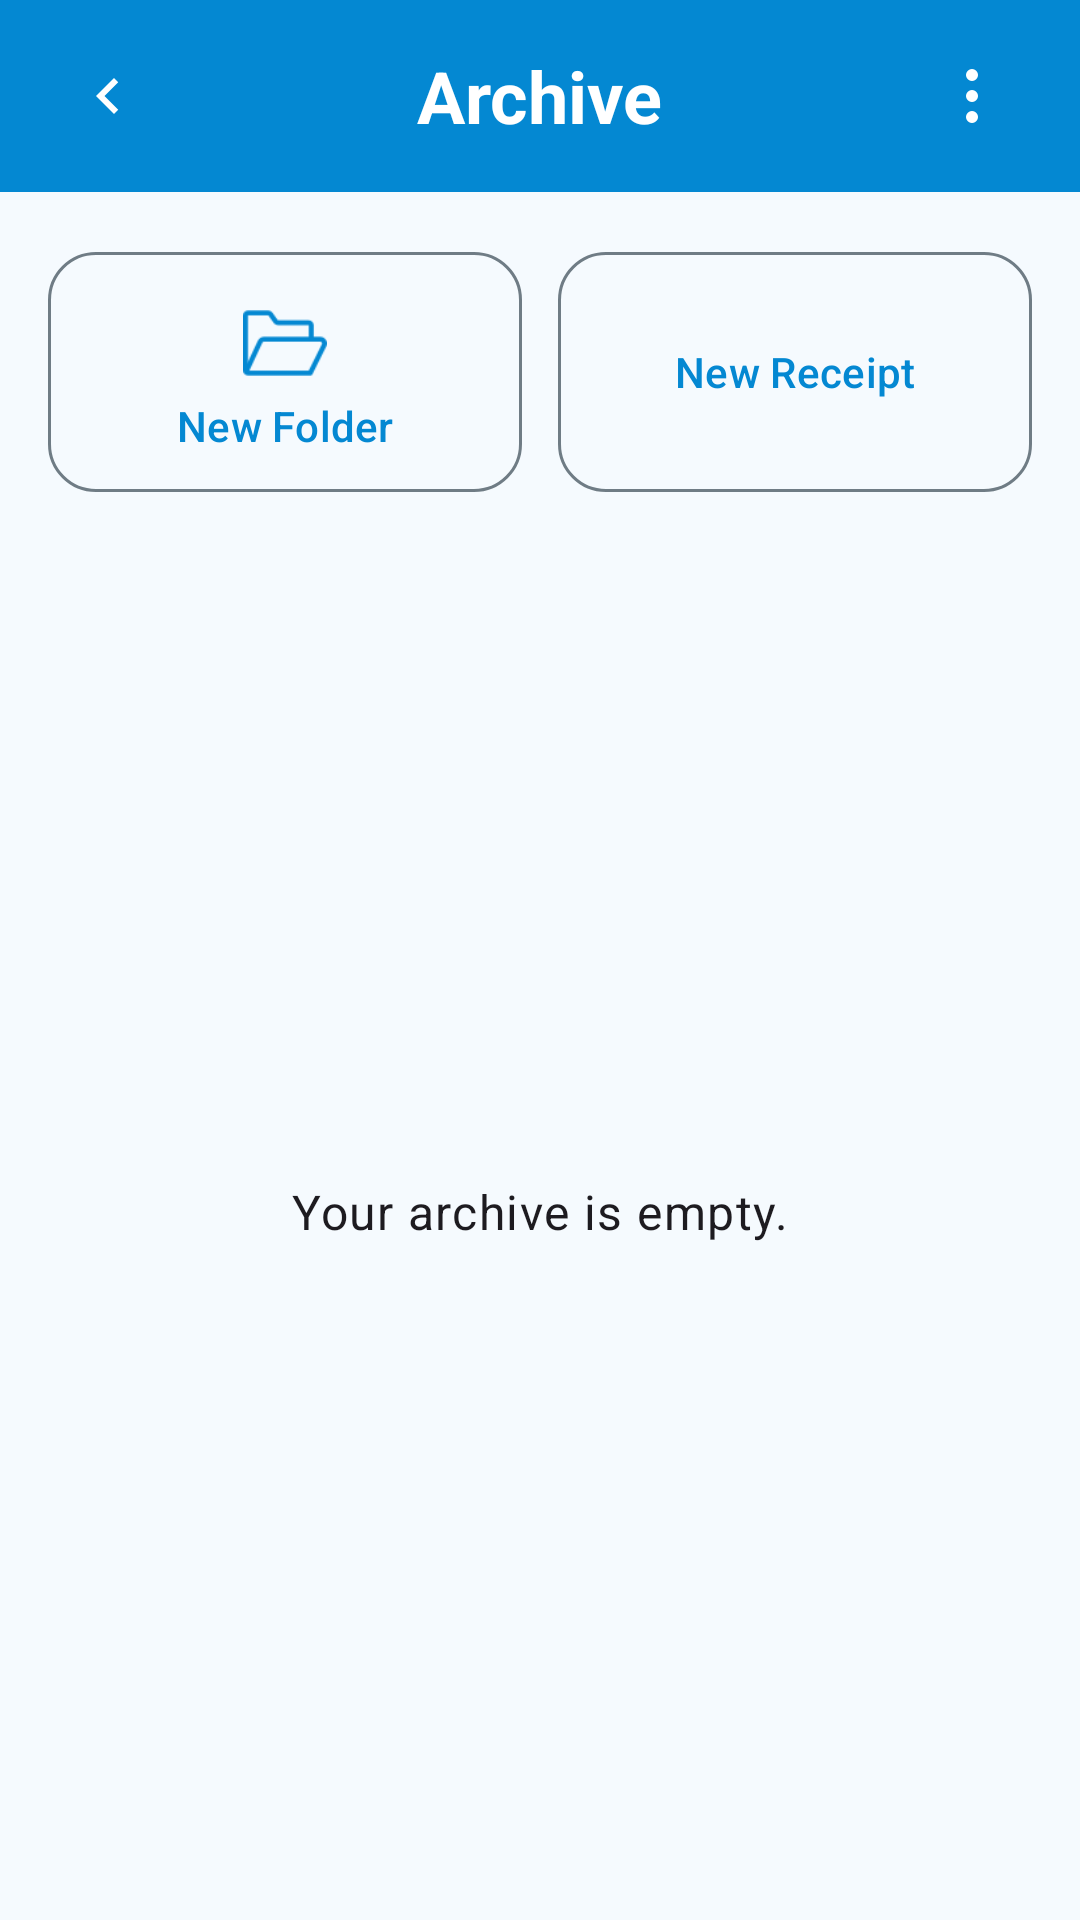

Icon bounding boxes for this 1080px×1920px phone screenshot, format bbox=[x1, y1, x2, y2]:
Back: bbox=[96, 78, 118, 114]
More options: bbox=[966, 69, 978, 123]
